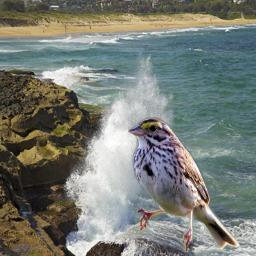Sparrow: (128, 117, 240, 252)
